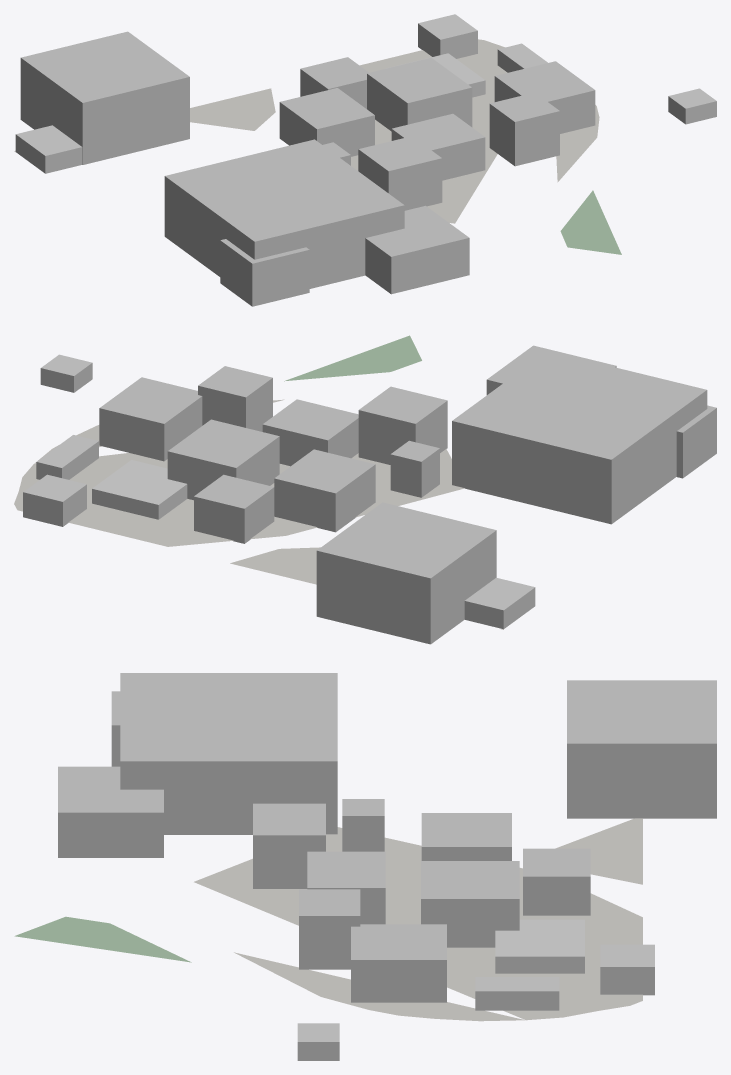
Rendered from 135_108_mid.glb.
3 views of the same model, one above another, from view 1: azimuth 30°, elevation 25°; view 2: azimuth 150°, elevation 25°; view 3: azimuth 270°, elevation 25° (orthographic). The views are drawn at different scales.
Bounding box in the file's own units: 458 × 48.5 × 411.
